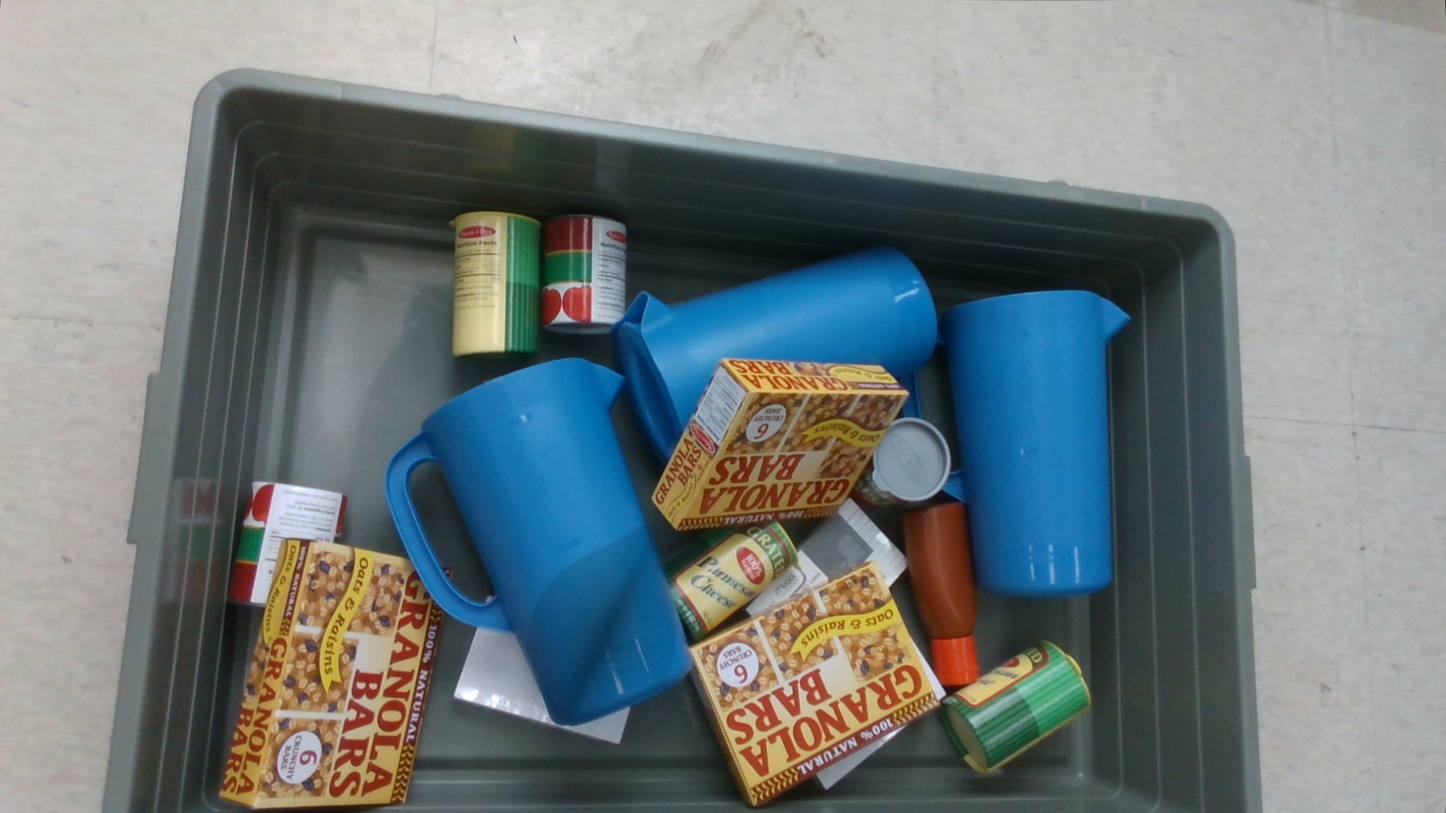defect: (526, 522, 676, 723)
